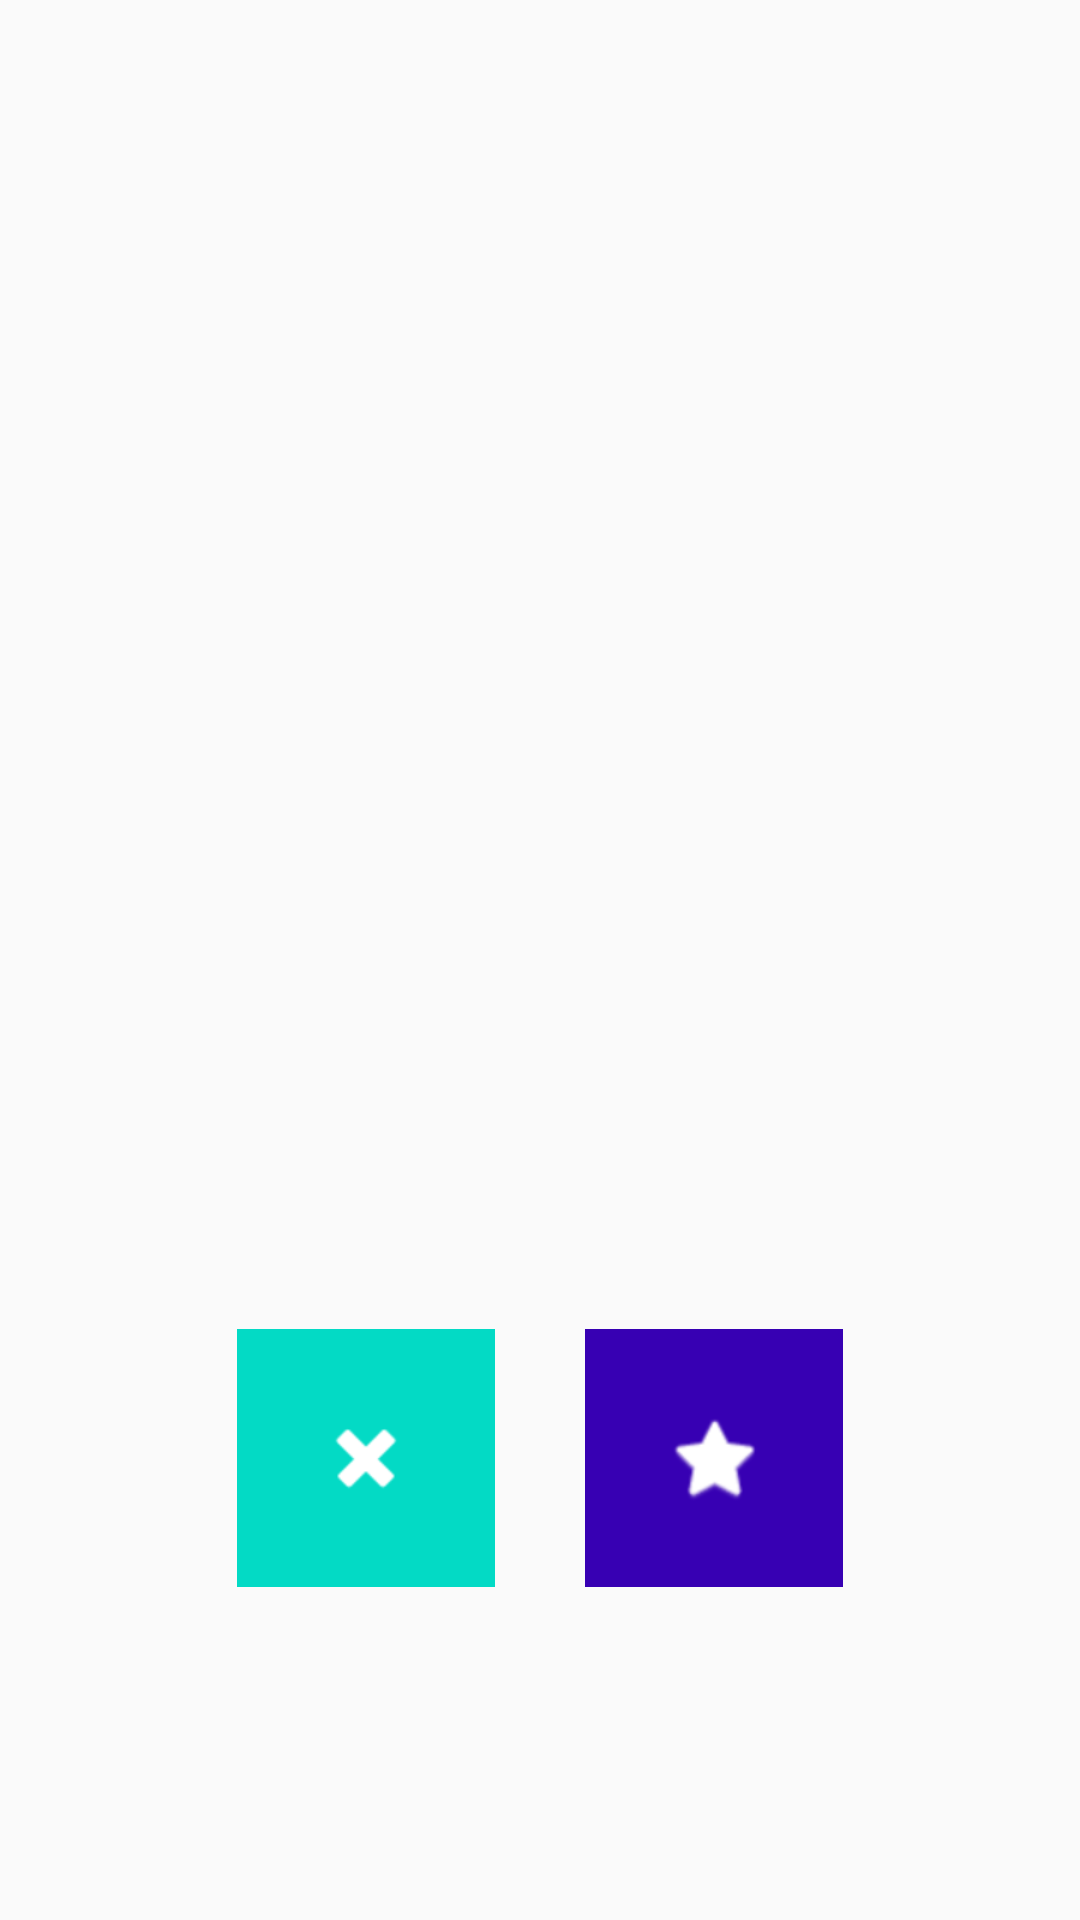

Icons on this 1080*1920 Android screen, each with the point to tap as (x,y):
delete: (366,1458)
star on: (714,1458)
